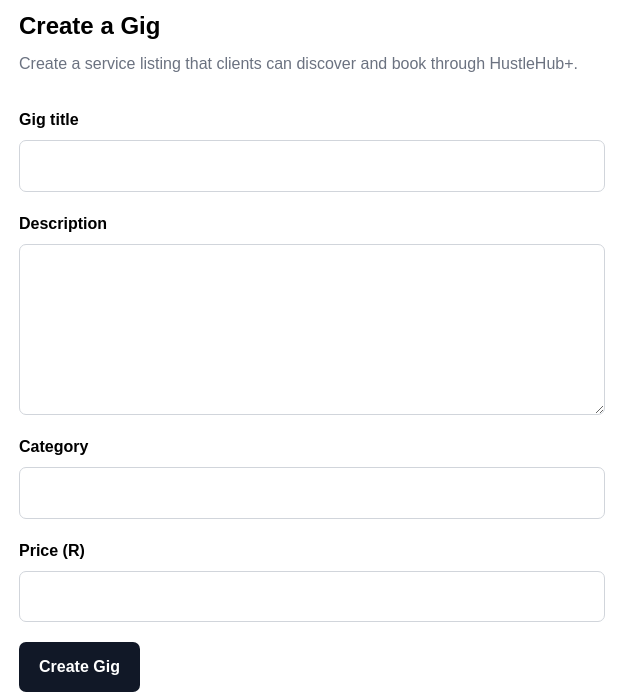
CreateGig › rejects a price that is not greater than zero
Step 1. Type "Logo Design" into the field labelled "Gig title" → {"x": 312, "y": 166}, box top-left (19, 140), bottom-right (605, 192)
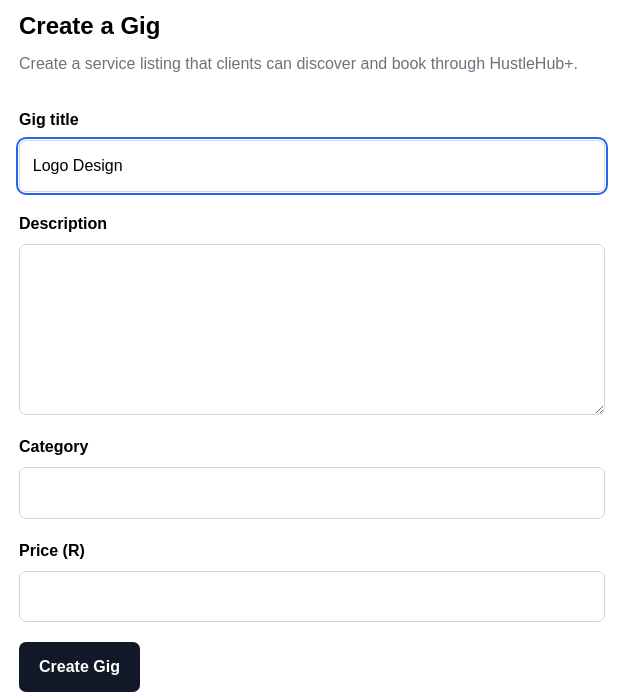
Step 2. Type "I will create a professional logo." into the text box labelled "Description" → {"x": 312, "y": 329}, box top-left (19, 244), bottom-right (605, 415)
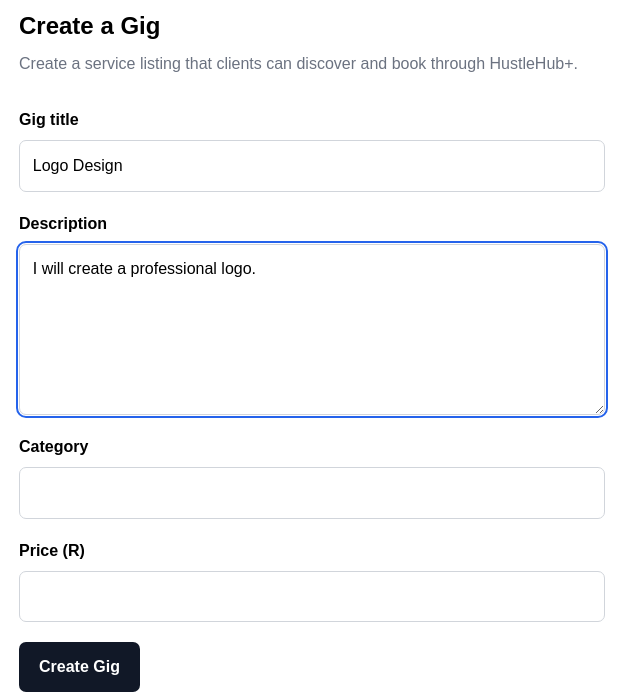
Step 3. Type "Design" into the field labelled "Category" → {"x": 312, "y": 493}, box top-left (19, 467), bottom-right (605, 519)
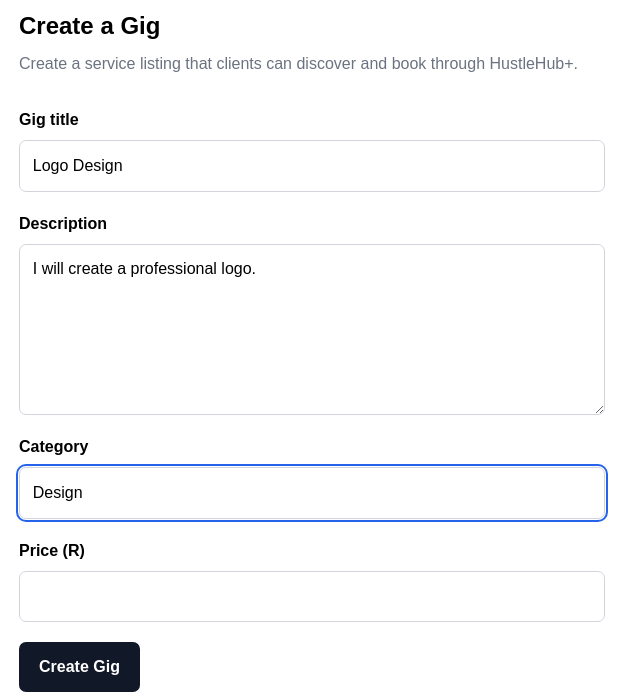
Step 4. Type "0" into the number field labelled "Price (R)" → {"x": 312, "y": 597}, box top-left (19, 571), bottom-right (605, 622)
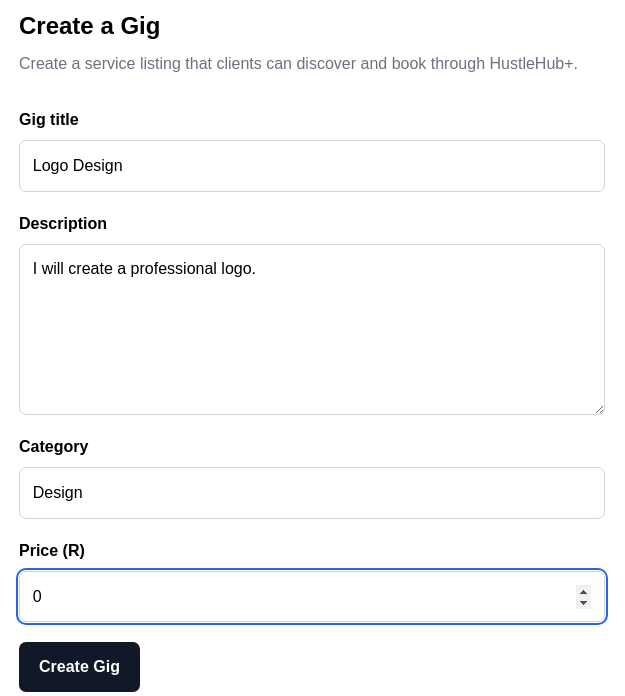
Step 5. Click the button "Create Gig" → {"x": 79, "y": 667}, box top-left (19, 642), bottom-right (140, 692)
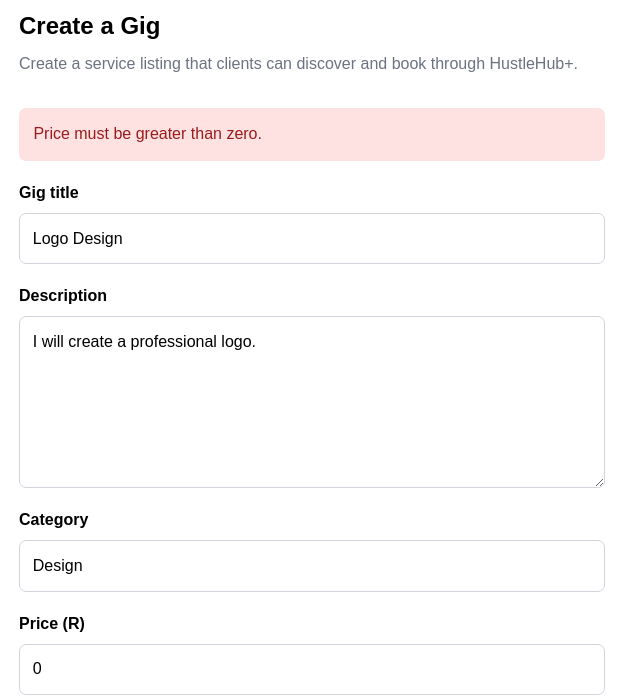
Result: the message reads "Price must be greater than zero." at top-left (33, 125), bottom-right (262, 142)
